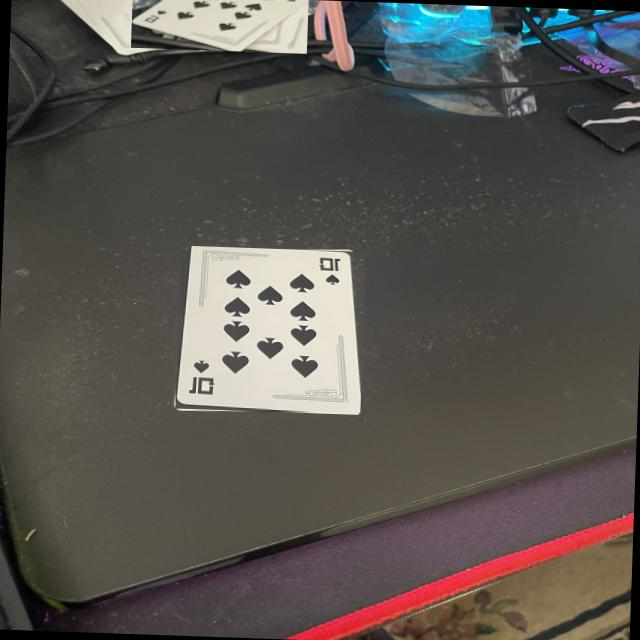10 of spades: (175, 246, 360, 413)
9 of spades: (132, 0, 308, 51)
